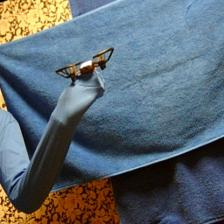drone: (53, 48, 115, 82)
